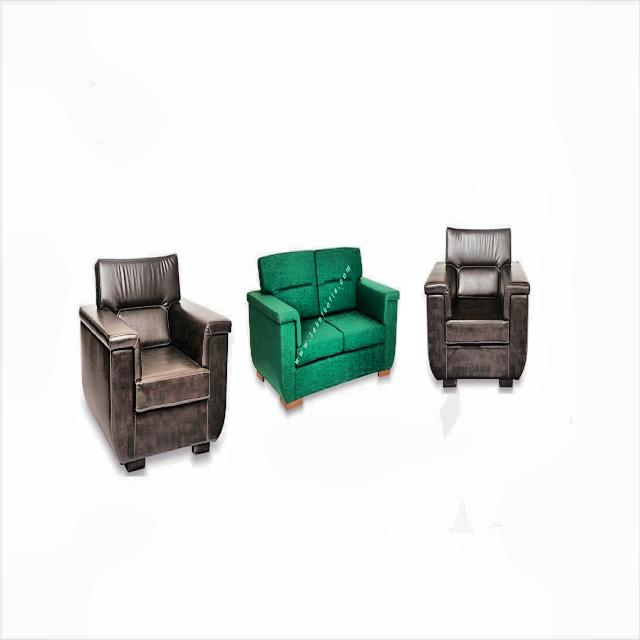sofa: (78, 252, 232, 472), (246, 245, 400, 410), (424, 225, 530, 388)
